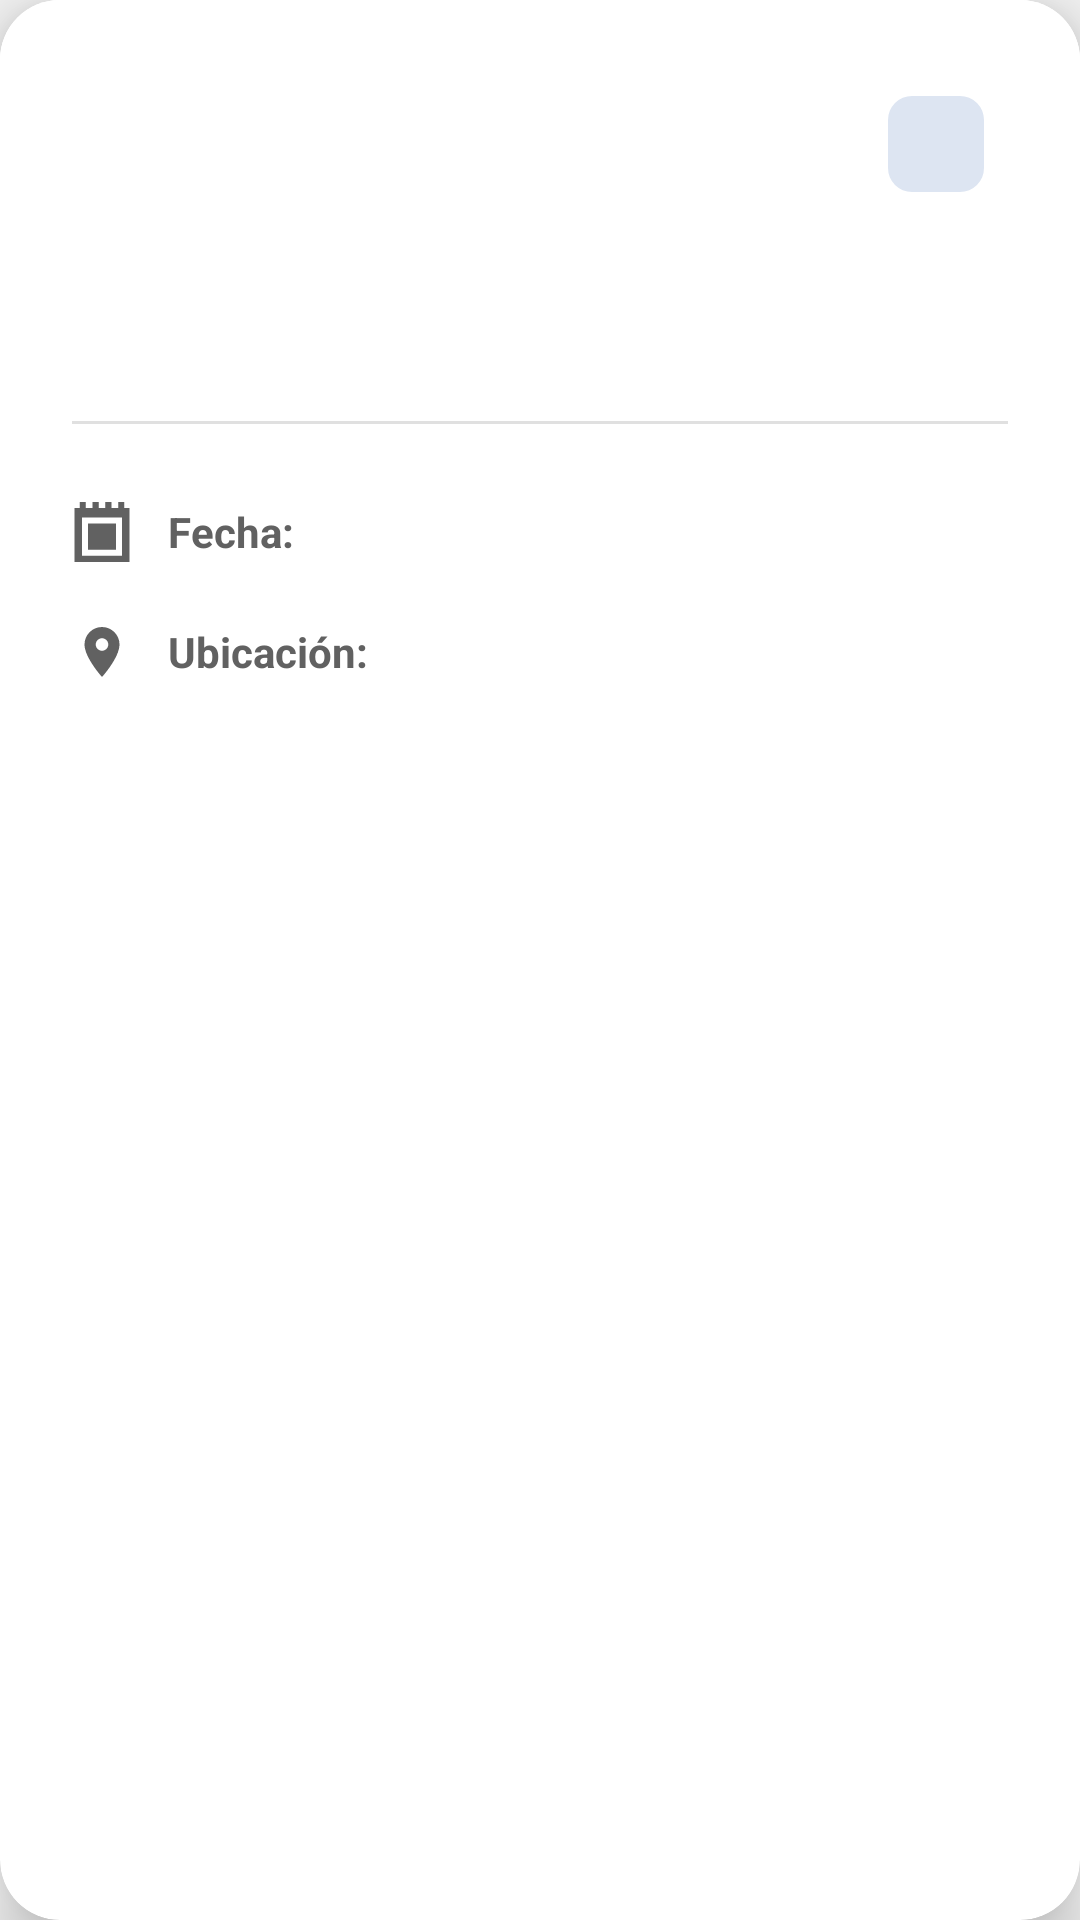

Named icons in this screenshot (1080*1920) and their bounding boxes, (x1, y1, x2, y2):
calendar: (74, 502, 130, 562)
location: (84, 627, 120, 677)
